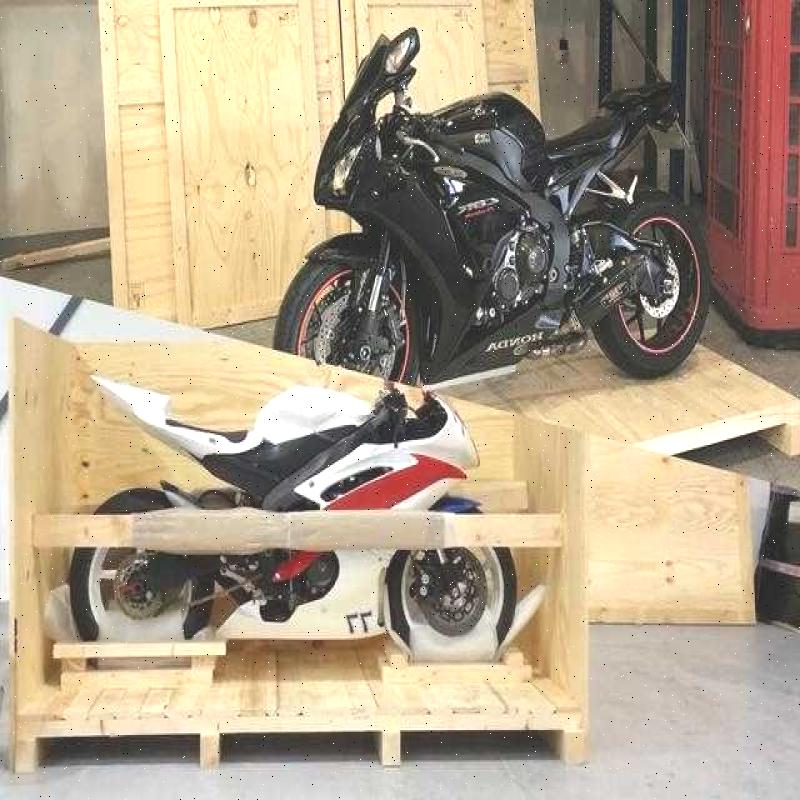bike: (36, 345, 532, 667), (296, 28, 712, 410)
